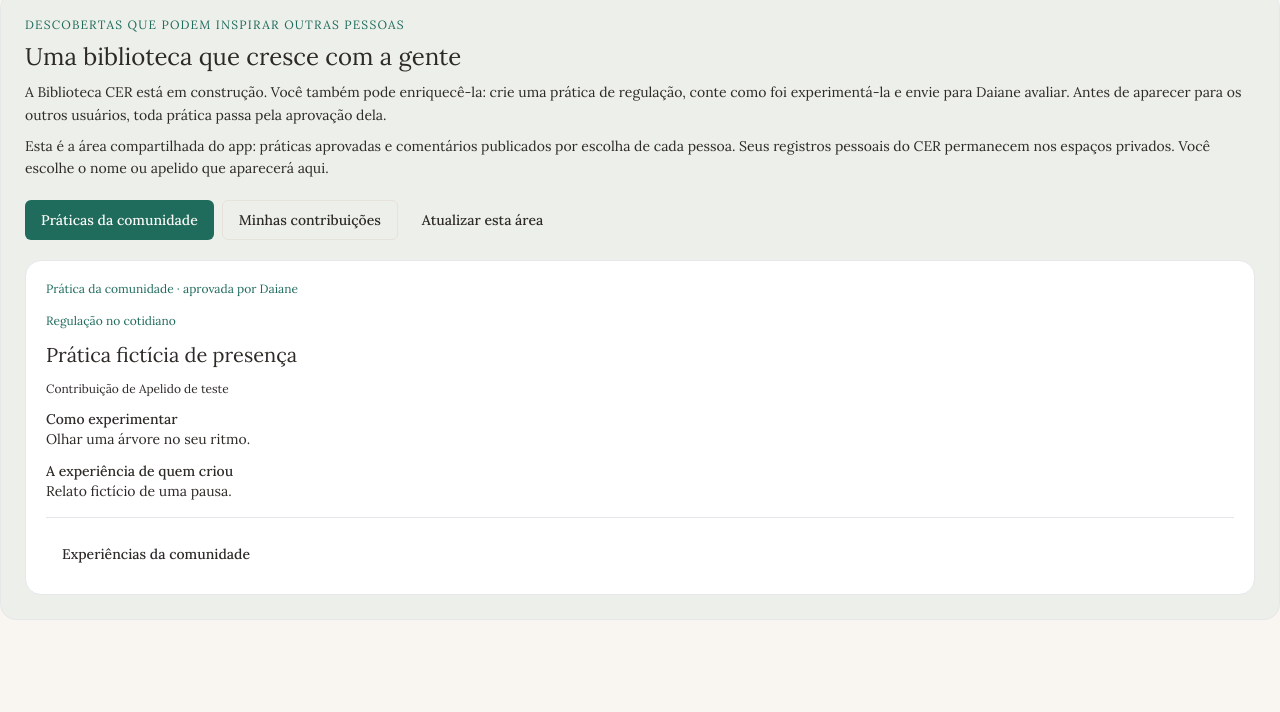
approved revision warns that edits return to review
Expected: the heading "Prática fictícia de presença" is shown, [46,342,297,367]
Click the button "Minhas contribuições" at (310, 220), box [222,200,398,240]
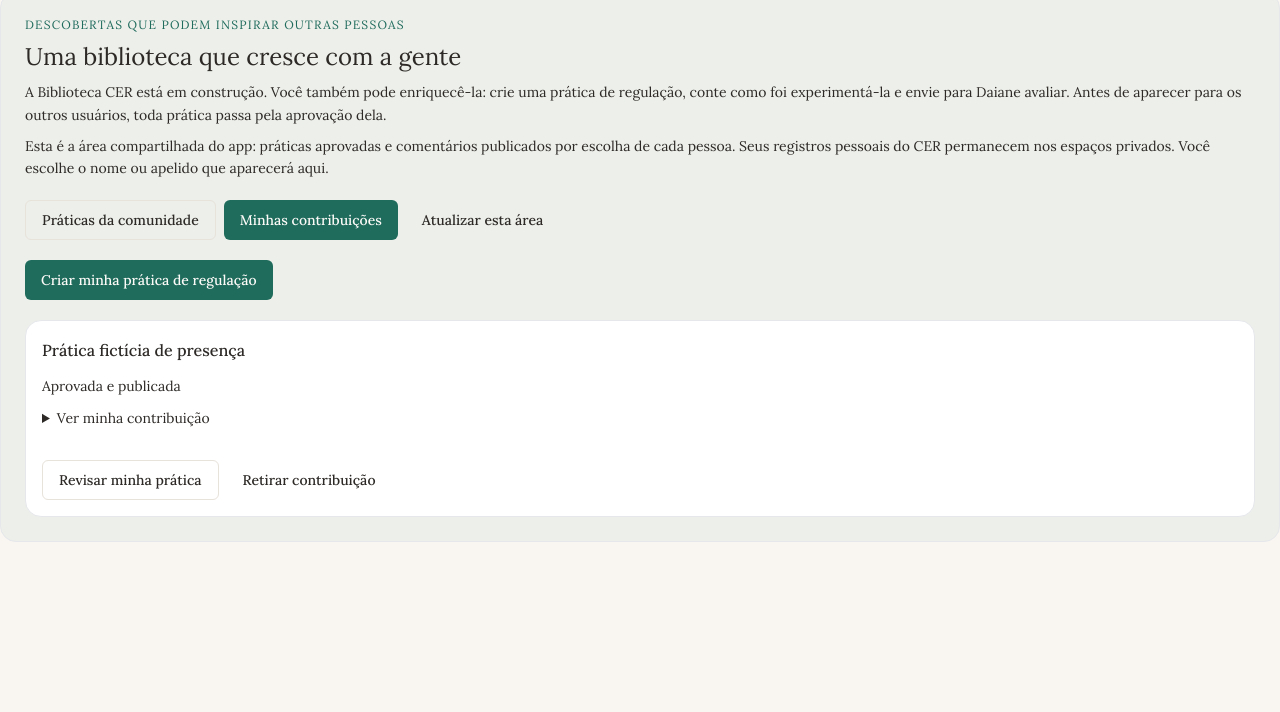
Click the button "Revisar minha prática" at (130, 480), box [42,460,219,500]
(page scrolled)
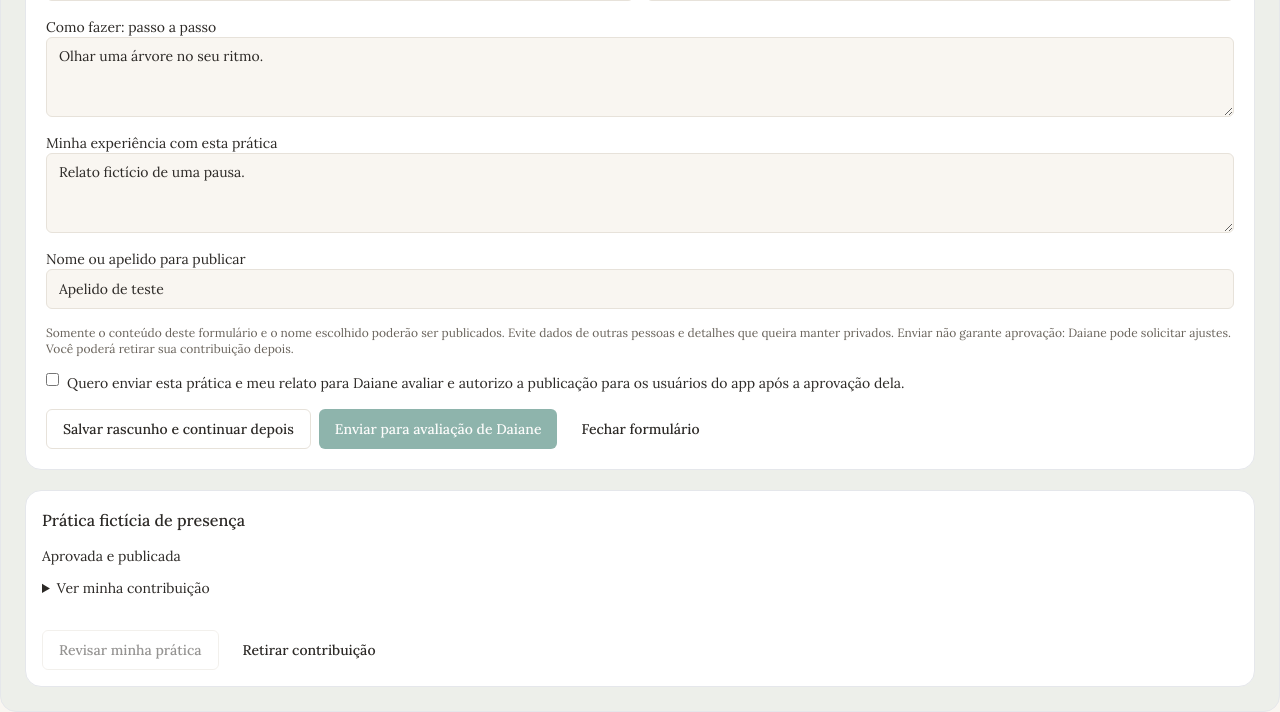
Result: the checkbox is not checked at [46,373,59,386]
